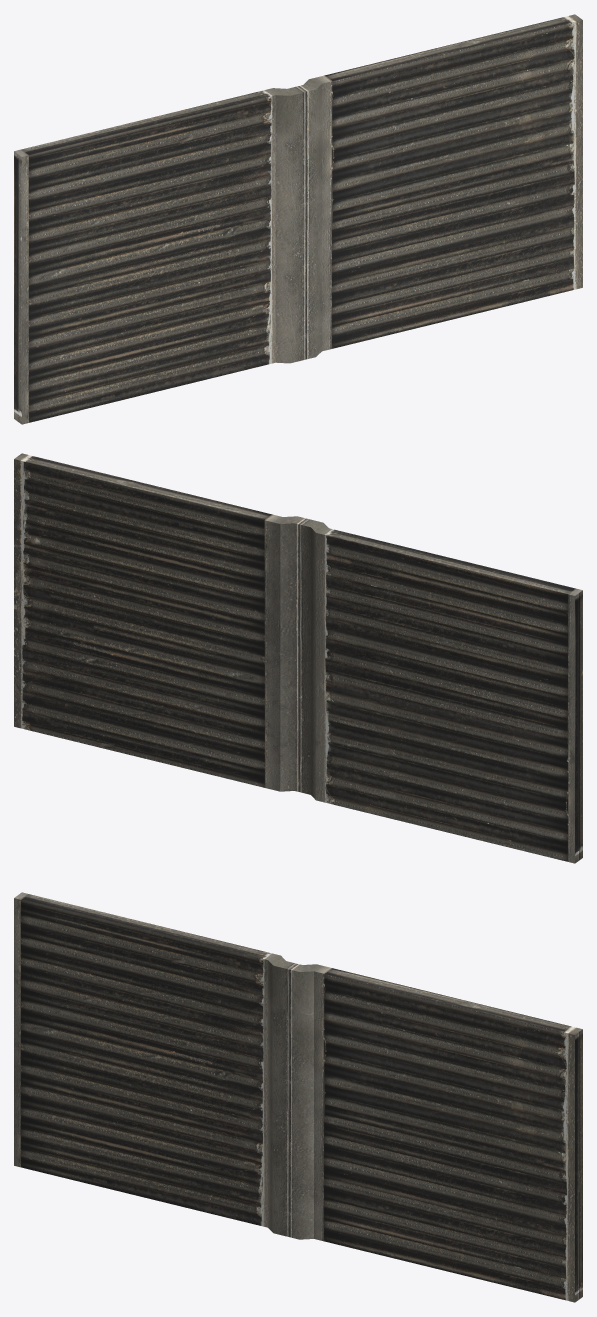
Rendered from SM_railing_cover_a.fbx.
3 views of the same model, one above another, from view 1: azimuth 30°, elevation 25°; view 2: azimuth 150°, elevation 25°; view 3: azimuth 330°, elevation 25° (orthographic).
Visible parts, largest first — view 1: railing_cover_a; view 2: railing_cover_a; view 3: railing_cover_a.
Part boxes in pixels (<box>): railing_cover_a: <box>14,14,582,424</box>; railing_cover_a: <box>14,453,582,863</box>; railing_cover_a: <box>14,892,582,1302</box>.
Bounding box in the file's own units: 1.91 × 0.8722 × 0.0724.
